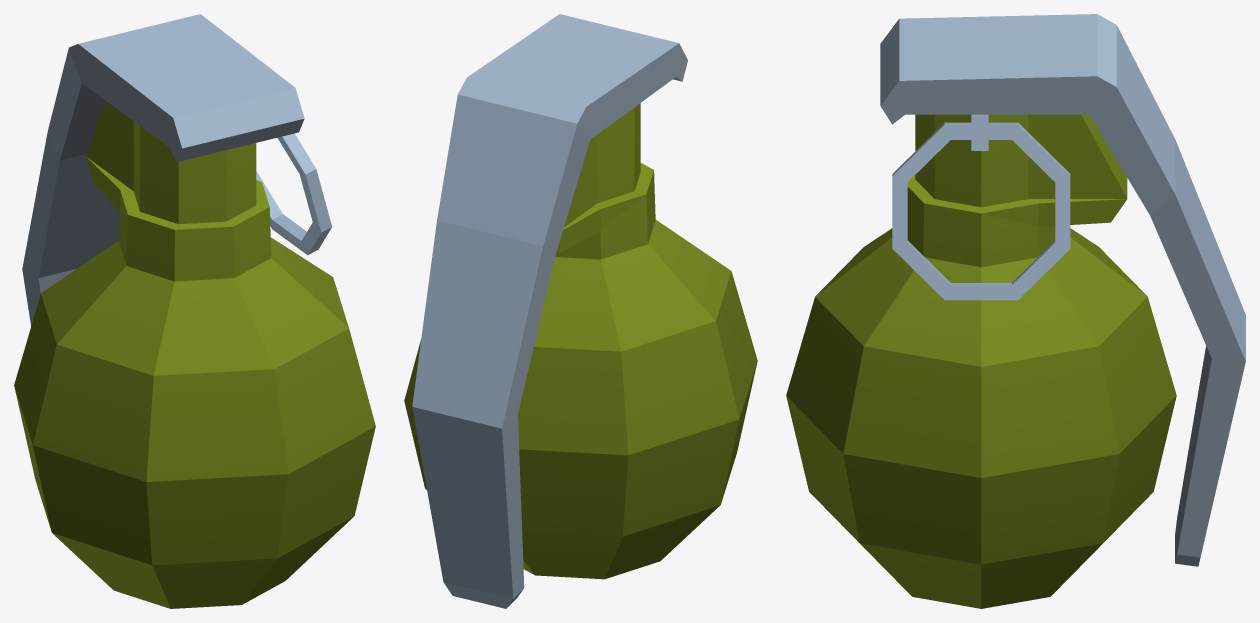
The model's file is Grenade.fbx.
The picture shows the model from 3 angles, left to right: view 1: azimuth 30°, elevation 25°; view 2: azimuth 150°, elevation 25°; view 3: azimuth 270°, elevation 25°; orthographic projection. The views are drawn at different scales.
Parts seen in each view (by area): view 1: Grenade; view 2: Grenade; view 3: Grenade.
Part boxes in pixels (x1,y1,x2,y2): Grenade: (14,14,375,608); Grenade: (404,14,757,608); Grenade: (786,14,1245,608).
Bounding box in the file's own units: 13.92 × 21.09 × 16.38.
